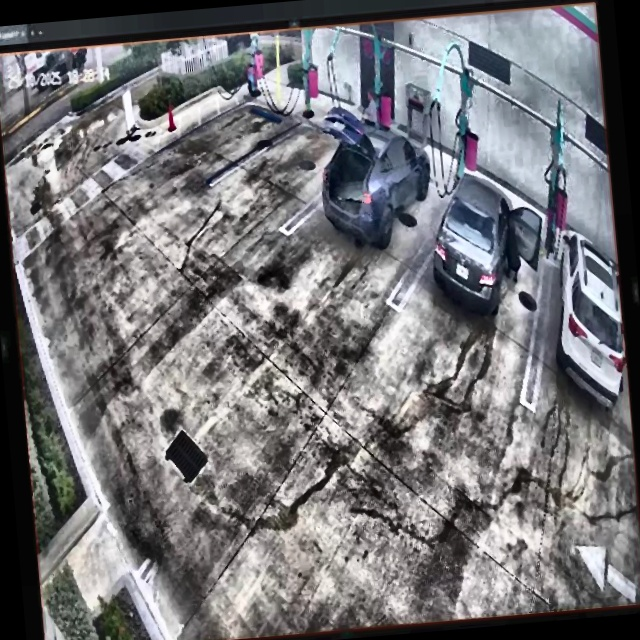Car: (316, 98, 437, 252), (426, 166, 544, 312)
